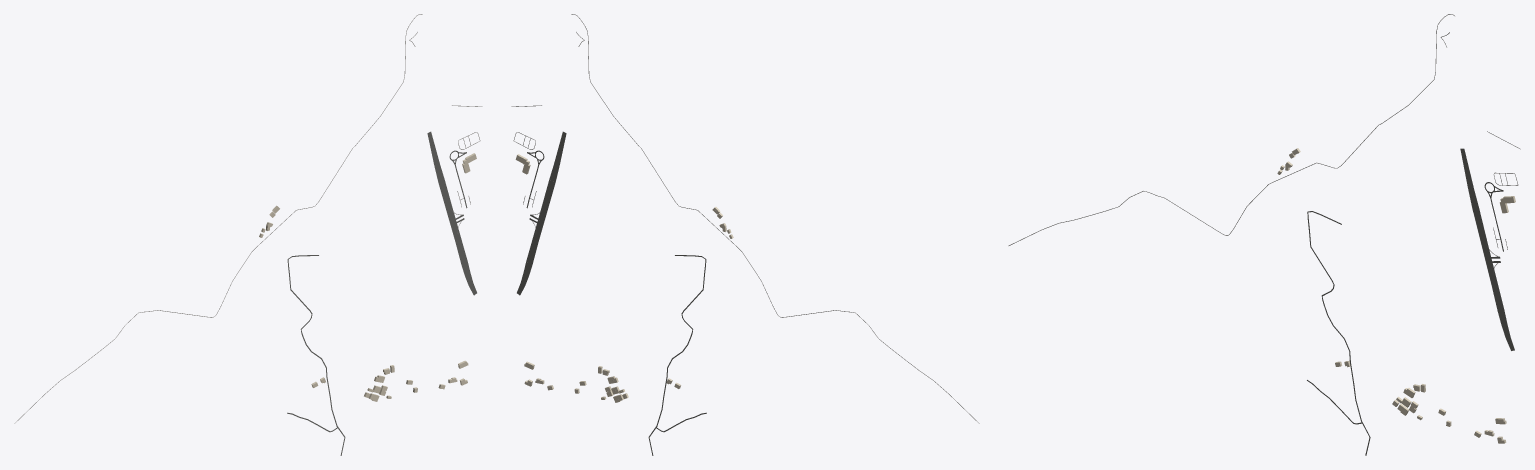
File: historic-palestine-11_24_3525_3186.glb
3 renders of one model, left to right at view 1: azimuth 30°, elevation 25°; view 2: azimuth 150°, elevation 25°; view 3: azimuth 330°, elevation 25°, orthographic. The views are drawn at different scales.
Parts seen in each view (by area): view 1: Road .005; view 2: Road .005; view 3: Road .005.
Boxes of the visible parts, x1=… form: Road .005: x1=14, y1=14, x2=422, y2=423; Road .005: x1=571, y1=14, x2=979, y2=423; Road .005: x1=1008, y1=14, x2=1454, y2=245.
Size of the model in its own units: 1487 by 1282 by 8.7.
